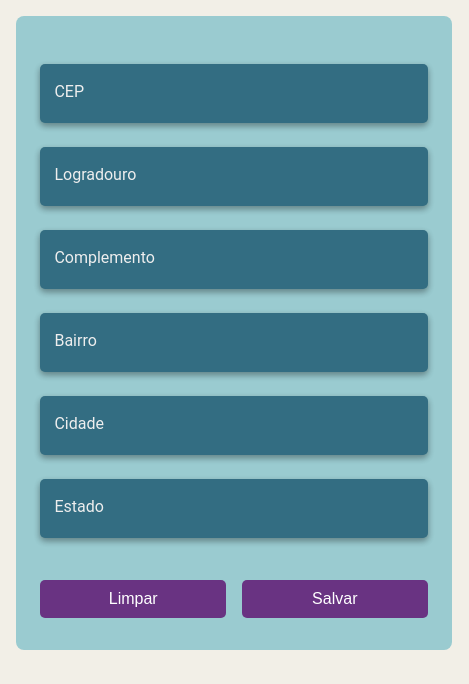
it: Formulário de Endereço › deve mostrar erro para CEP inválido
Type "123" into the field with test id "cep-input" at (234, 94), box [52,76,415,111]
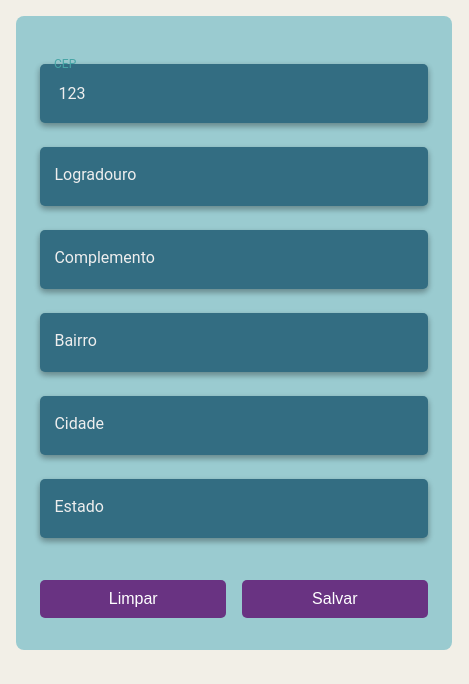
Leave the field with test id "cep-input", box [52,76,415,111]
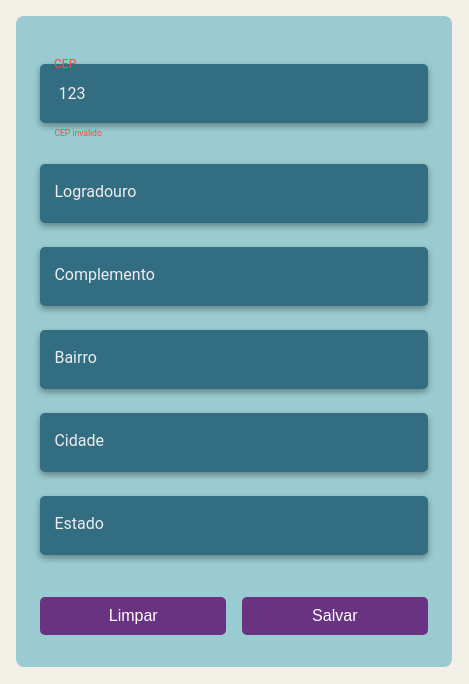
Expected: the text "CEP inválido" is shown, [54,128,102,138]
